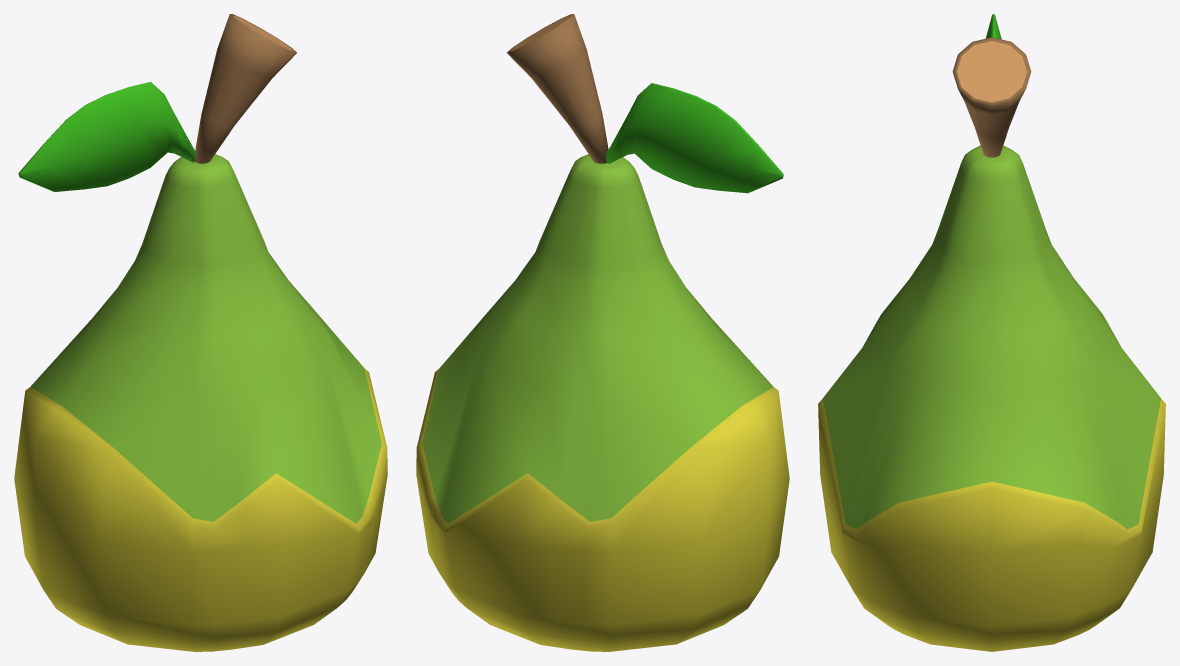
Rendered from props_pear.fbx.
3 views of the same model, side by side, from view 1: azimuth 30°, elevation 25°; view 2: azimuth 150°, elevation 25°; view 3: azimuth 270°, elevation 25° (orthographic).
Parts seen in each view (by area): view 1: pear; view 2: pear; view 3: pear.
Boxes of the visible parts, <box> form: pear: <box>14,14,387,651</box>; pear: <box>416,14,789,651</box>; pear: <box>818,14,1165,651</box>.
Bounding box in the file's own units: 0.5679 × 0.4876 × 0.9297.
